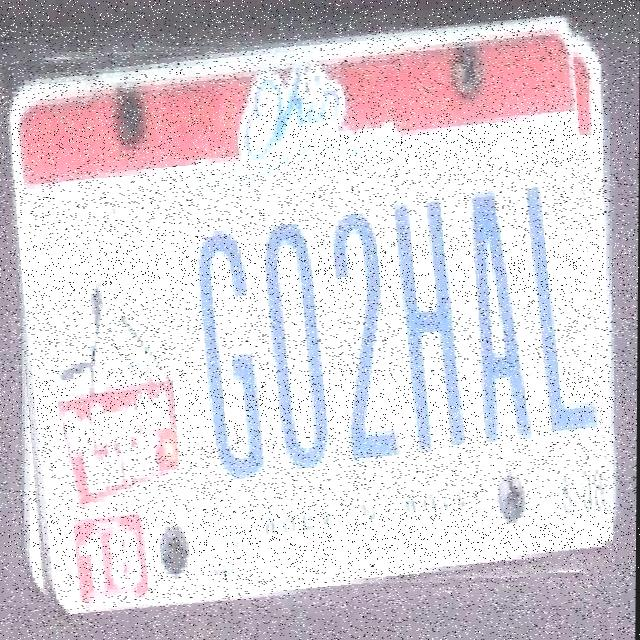LicensePlate: (10, 27, 607, 605)
